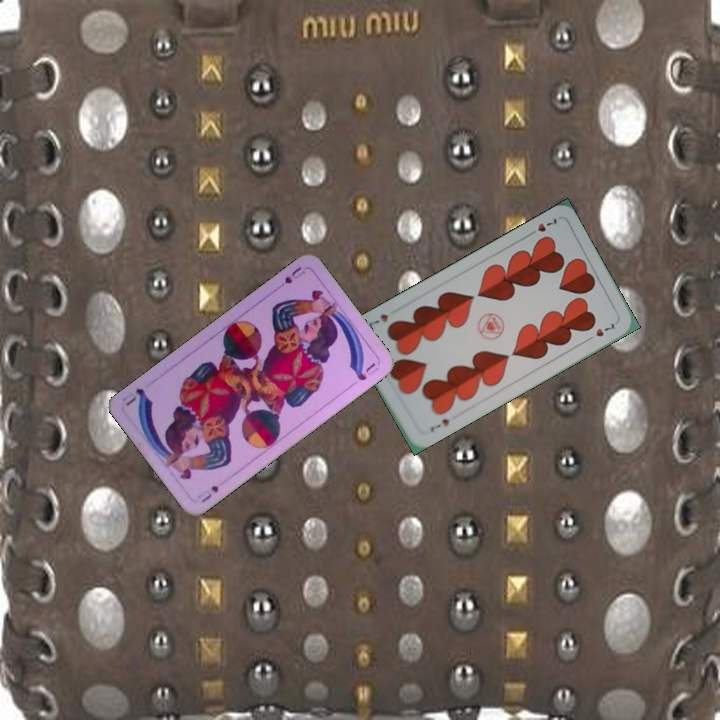H7: (524, 214, 560, 239), (426, 414, 452, 435)
SU: (280, 263, 308, 286), (197, 481, 221, 505)
